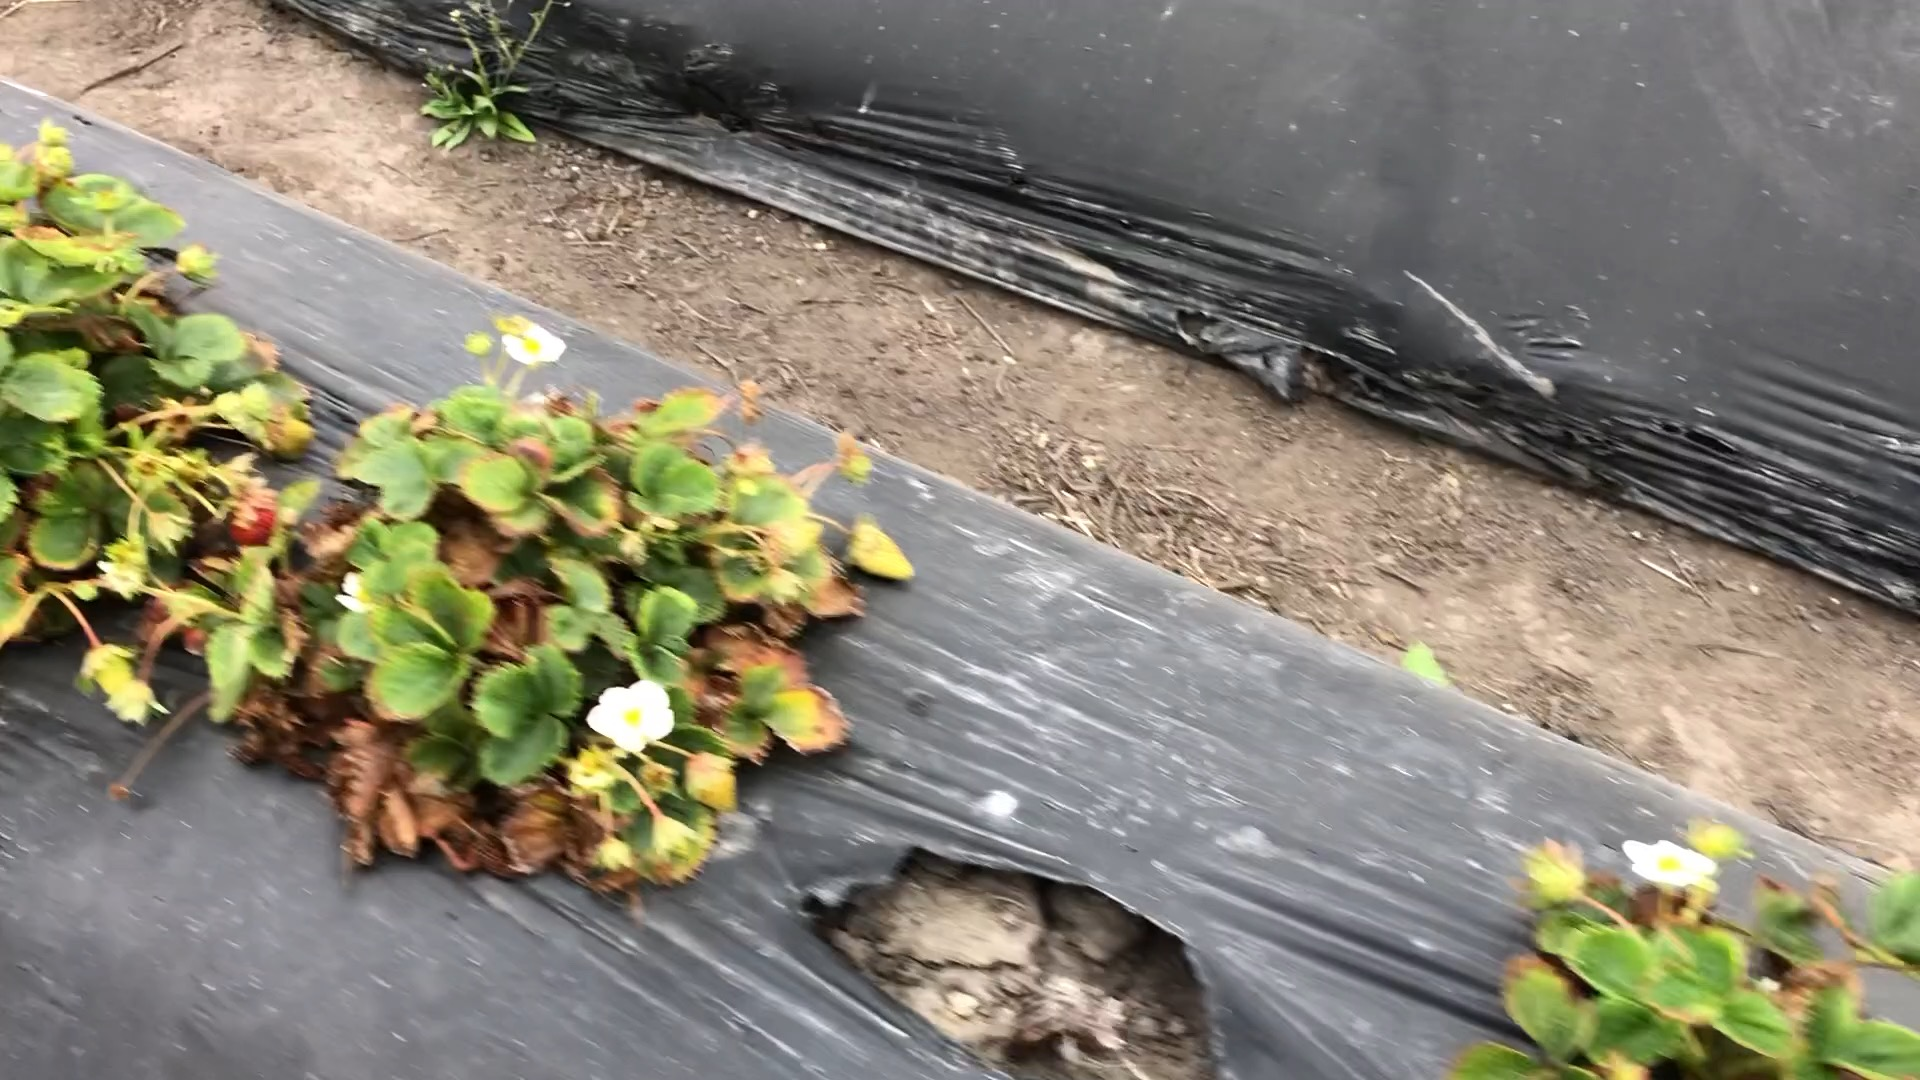ripe_strawberry: (225, 495, 280, 553)
unripe_strawberry: (844, 526, 920, 585), (686, 757, 745, 818), (84, 644, 137, 700), (262, 413, 316, 463)
